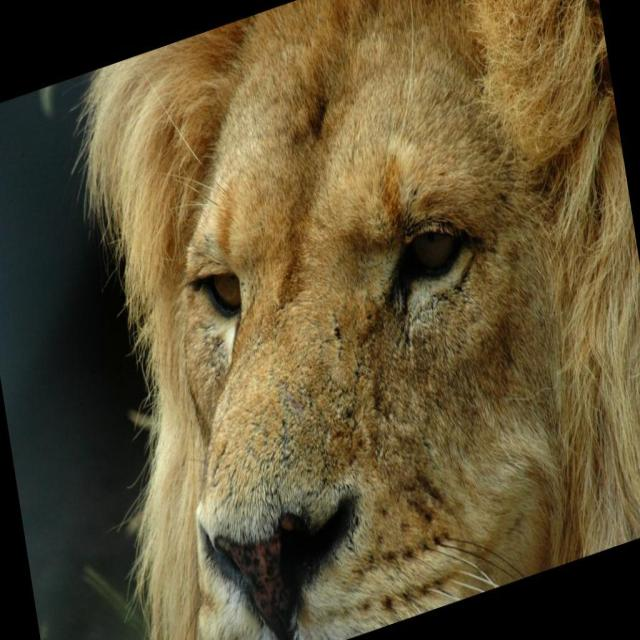Lion: (38, 0, 640, 639)
